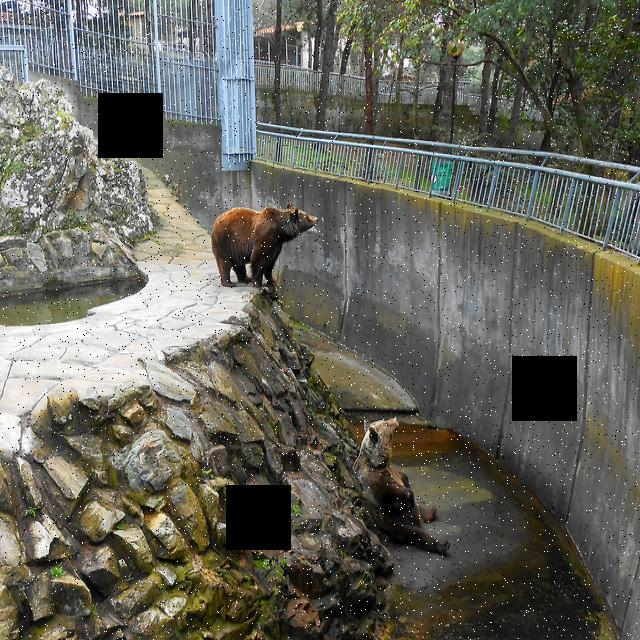Bear: (204, 198, 324, 280)
